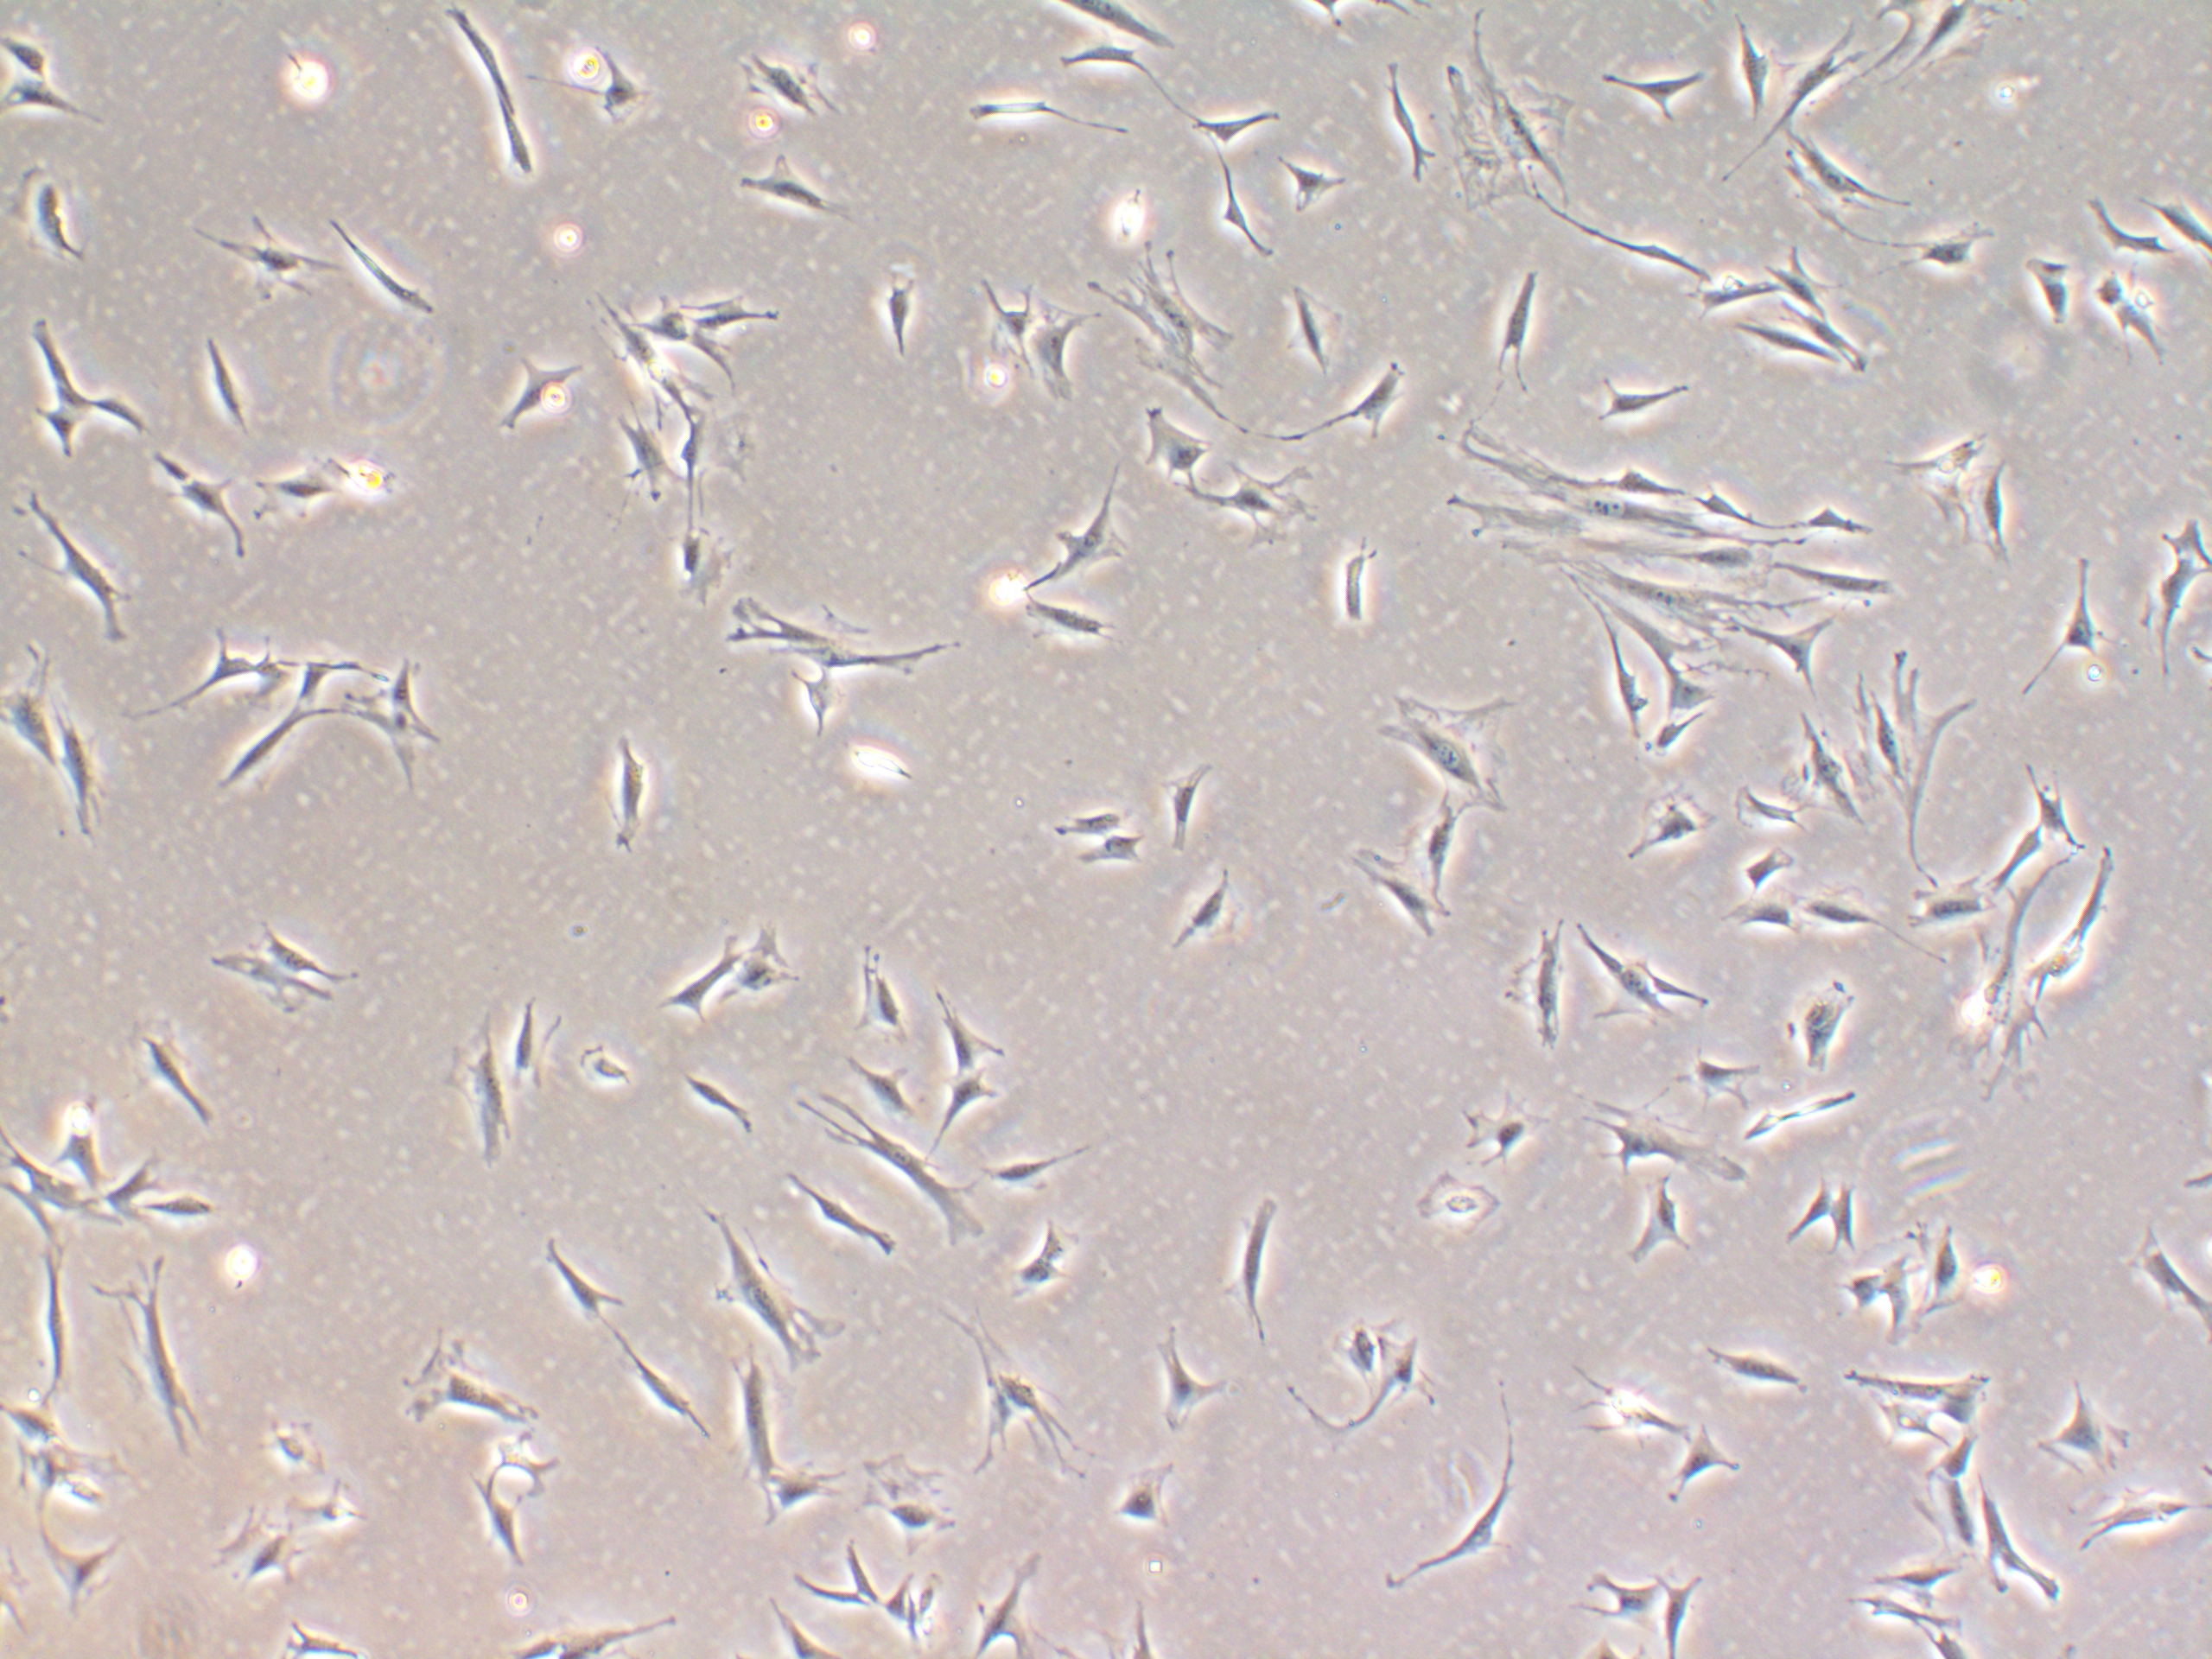polygonal: (796, 1082, 993, 1258), (1374, 1387, 1534, 1603), (698, 1195, 848, 1375), (87, 1258, 212, 1471), (1723, 14, 1867, 185), (1209, 1169, 1332, 1361), (0, 504, 141, 655), (1012, 450, 1146, 601), (949, 89, 1160, 183), (432, 990, 529, 1190), (345, 657, 481, 800), (2026, 545, 2120, 748), (310, 195, 456, 324), (103, 1007, 237, 1141), (1277, 352, 1426, 465), (2094, 1201, 2212, 1344), (197, 204, 333, 322), (637, 272, 791, 376), (1491, 910, 1585, 1066), (1568, 917, 1681, 1046), (164, 910, 359, 983), (594, 288, 700, 422), (2031, 1370, 2149, 1490), (1775, 129, 1921, 225), (1327, 845, 1454, 955), (775, 1161, 902, 1270), (712, 30, 848, 131), (1555, 207, 1723, 289), (716, 136, 862, 228), (2064, 1483, 2212, 1574), (2, 160, 110, 284), (1885, 415, 1989, 542), (1136, 1316, 1237, 1446), (397, 1340, 535, 1436), (716, 1333, 780, 1537), (949, 258, 1033, 415), (850, 1445, 963, 1560), (1197, 141, 1292, 277), (475, 336, 590, 448), (920, 1066, 1038, 1175), (256, 448, 387, 545), (1984, 1483, 2076, 1617), (617, 1333, 719, 1453), (657, 392, 765, 505), (453, 1474, 552, 1596), (995, 592, 1139, 676), (1108, 1450, 1217, 1560), (138, 641, 298, 716), (1815, 1364, 2012, 1424), (54, 702, 122, 870), (1583, 52, 1710, 141), (641, 932, 751, 1035), (214, 708, 326, 809), (590, 401, 688, 516), (1777, 709, 1860, 840), (186, 322, 270, 453), (1777, 296, 1885, 397), (1615, 1168, 1707, 1284), (1958, 455, 2043, 580), (1590, 788, 1710, 877), (1211, 462, 1325, 554), (1907, 1201, 1987, 1333), (1378, 47, 1444, 207), (974, 1133, 1141, 1195), (1878, 227, 1998, 314), (1148, 742, 1233, 864), (1162, 866, 1273, 958), (2139, 551, 2210, 694), (528, 1234, 625, 1337), (850, 242, 932, 364), (1017, 293, 1089, 432), (1268, 270, 1352, 389), (503, 979, 587, 1098), (0, 71, 125, 150), (1693, 1331, 1815, 1412), (1780, 962, 1858, 1086), (2080, 179, 2177, 279), (1655, 1563, 1756, 1659), (1799, 878, 1933, 950), (657, 518, 749, 620), (1486, 260, 1555, 396), (798, 627, 991, 676), (1172, 91, 1310, 159), (19, 1260, 82, 1408), (489, 91, 564, 214), (585, 45, 672, 152), (597, 714, 667, 847), (1444, 1087, 1559, 1168), (1264, 150, 1381, 228), (1585, 1368, 1683, 1460), (923, 972, 1012, 1073), (1571, 1556, 1672, 1645), (455, 0, 535, 110), (831, 1047, 928, 1136), (709, 591, 846, 653), (0, 645, 68, 770), (21, 308, 101, 415), (1599, 371, 1709, 448), (1770, 556, 1914, 613), (1672, 1042, 1771, 1126), (995, 1218, 1083, 1310), (120, 1178, 240, 1246), (96, 1155, 172, 1260), (1681, 270, 1808, 333), (721, 920, 799, 1021), (1332, 528, 1402, 641), (671, 1065, 766, 1147), (1723, 763, 1803, 861), (2017, 760, 2097, 857), (1393, 791, 1461, 906), (850, 943, 920, 1054), (289, 638, 401, 708), (1143, 411, 1226, 502), (1054, 40, 1167, 105), (54, 1080, 110, 1209), (14, 394, 96, 481), (84, 376, 172, 455), (1726, 310, 1838, 371), (1677, 1424, 1750, 1516), (765, 1448, 845, 1532), (1374, 1328, 1439, 1429), (1637, 945, 1726, 1018), (1710, 885, 1811, 948), (1784, 488, 1885, 551), (1911, 1473, 1980, 1563), (1878, 1255, 1930, 1375), (1850, 1589, 1977, 1638), (1764, 244, 1858, 308), (1721, 19, 1780, 120), (1043, 777, 1136, 842), (1824, 1159, 1874, 1263), (1684, 479, 1782, 533), (2151, 178, 2212, 263), (773, 1568, 876, 1619), (2027, 237, 2076, 343), (1066, 826, 1153, 885), (773, 662, 838, 741), (0, 28, 80, 91), (1778, 1159, 1831, 1255), (831, 1537, 895, 1614), (1921, 1420, 1993, 1488), (1864, 1556, 1968, 1601), (1730, 835, 1808, 894), (1836, 1258, 1895, 1323)
small-round: (577, 1044, 650, 1103)
spread: (1439, 411, 1724, 554), (1843, 647, 1982, 894), (1073, 232, 1244, 432), (1435, 28, 1576, 225), (1364, 673, 1527, 819), (1583, 563, 1796, 667)
